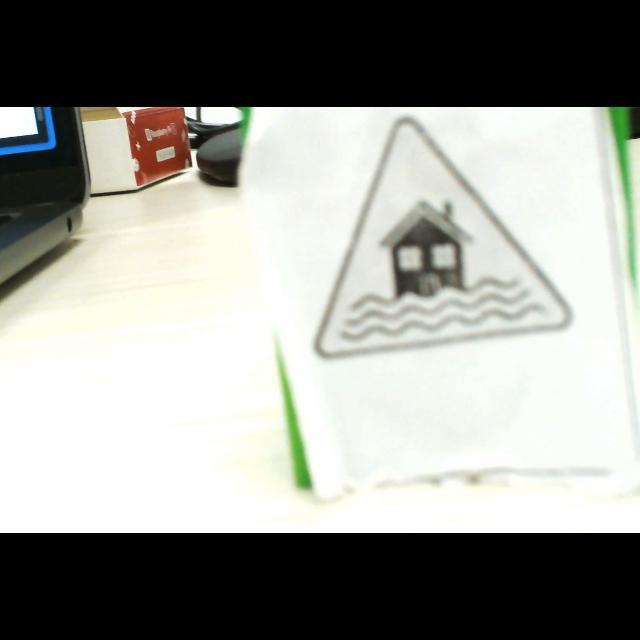Tsunami: (315, 117, 570, 359)
